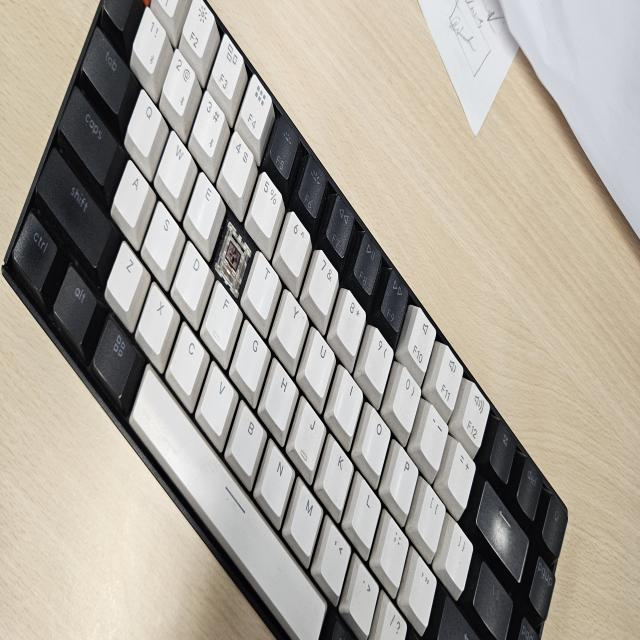C: (218, 228, 246, 277)
